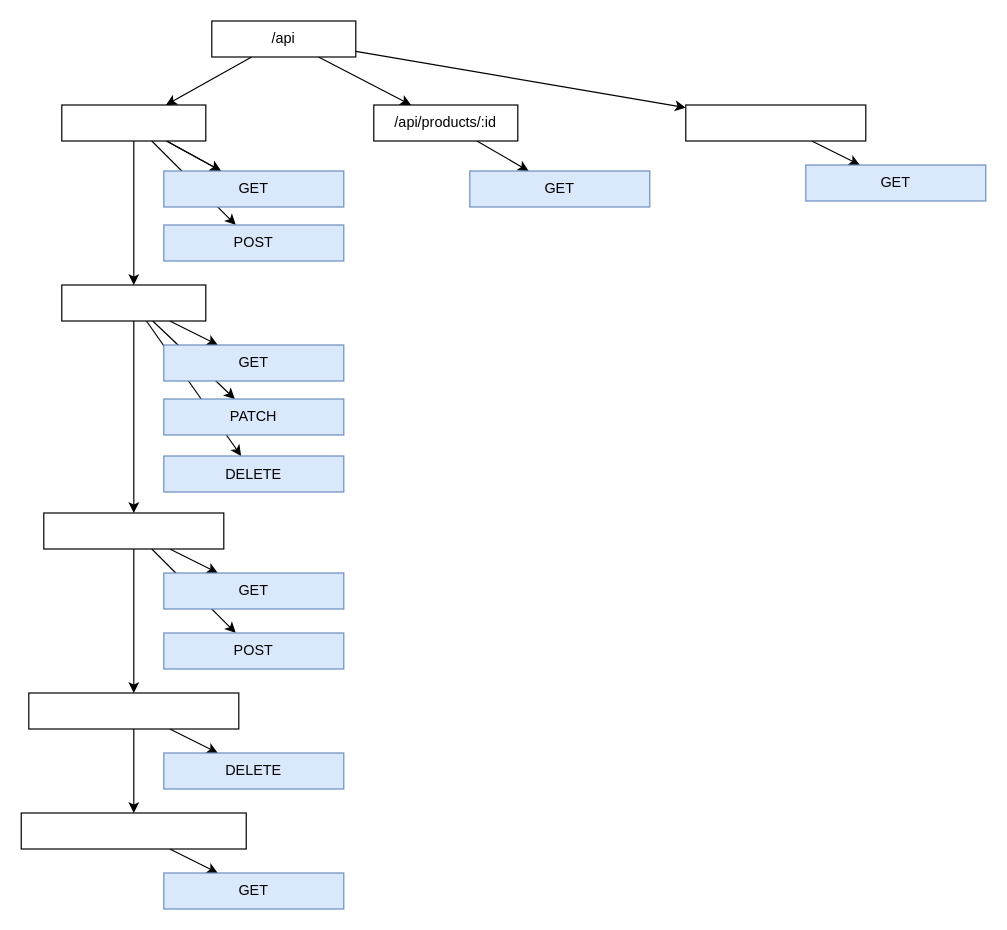
Image size: 1007x930. Some labels were removed from this diagram. The shapes that lost their labels are listed below. From the top down, each one's centre as x and y in pixels, then its label:
(x=133, y=122): /api/users
(x=775, y=122): /api/verification
(x=133, y=302): /api/users/:id
(x=133, y=530): /api/users/:id/products
(x=133, y=710): /api/users/:id/products/:id
(x=133, y=830): /api/users/:id/products/:id/prices
